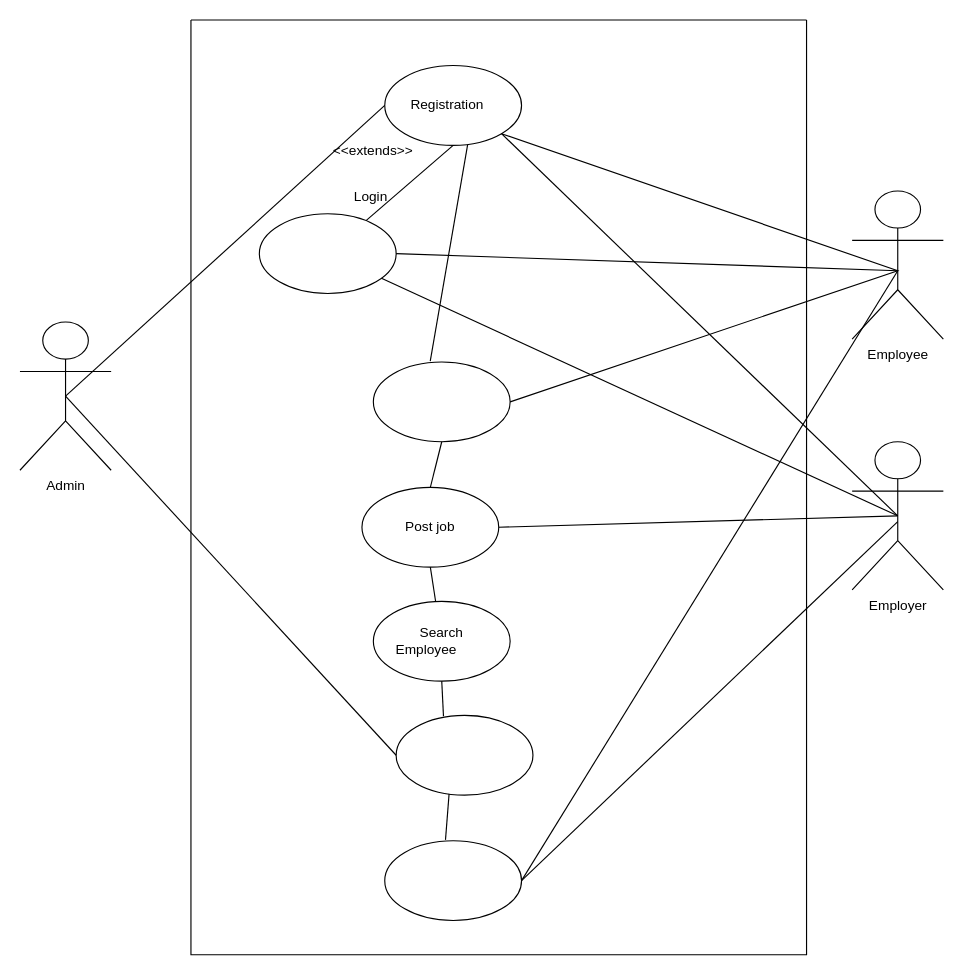
Image size: 963x975. Some labels were removed from this diagram. Each missing label, with the box of its shape:
Manage account: (384, 840, 522, 921)
Manage user: (395, 714, 533, 795)
Search job: (372, 361, 510, 442)
